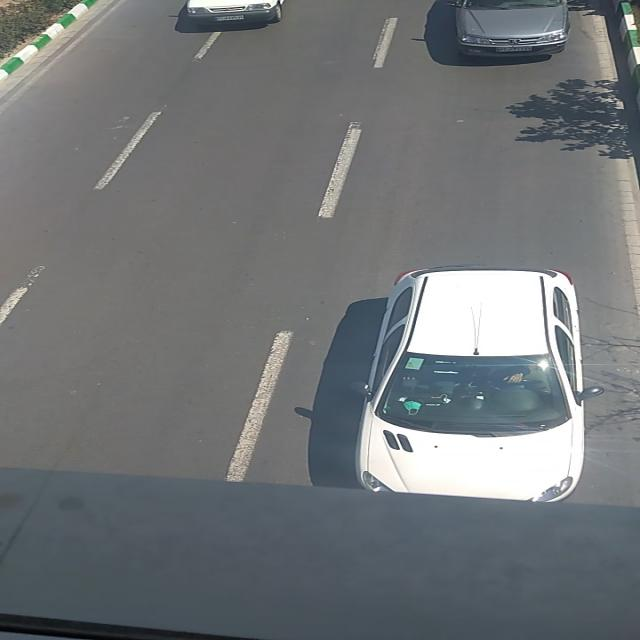car: (352, 265, 601, 496), (450, 0, 570, 54), (182, 1, 286, 25)
